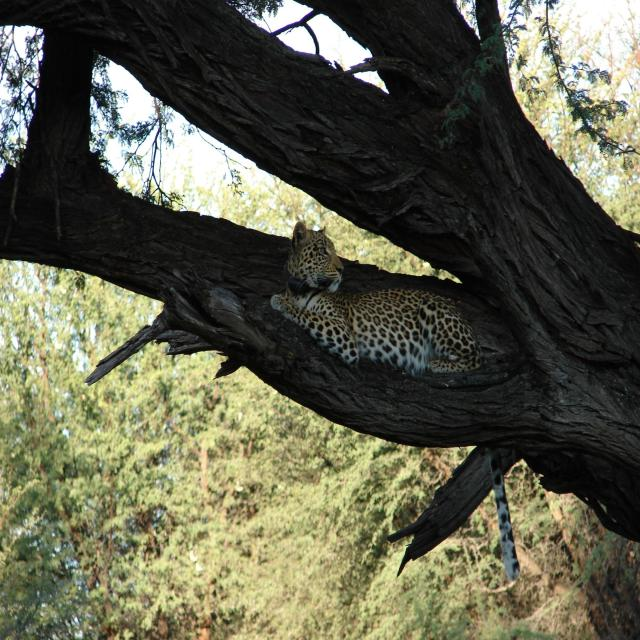Leopard: (276, 214, 522, 592)
